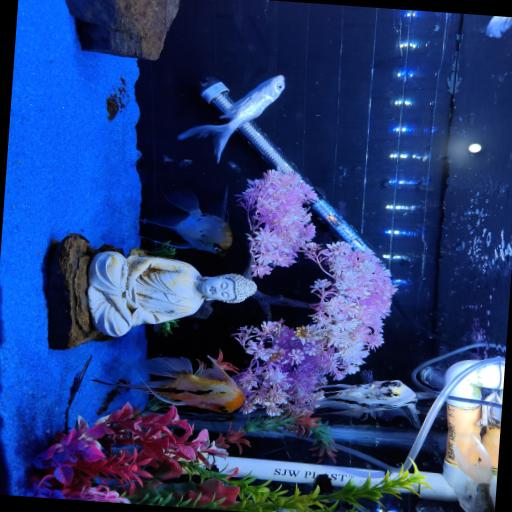Fish: (177, 75, 283, 162), (91, 357, 243, 412), (139, 188, 231, 256), (313, 371, 419, 427), (454, 436, 494, 511), (485, 16, 511, 37), (227, 161, 240, 173), (178, 160, 191, 167), (162, 155, 173, 162)
